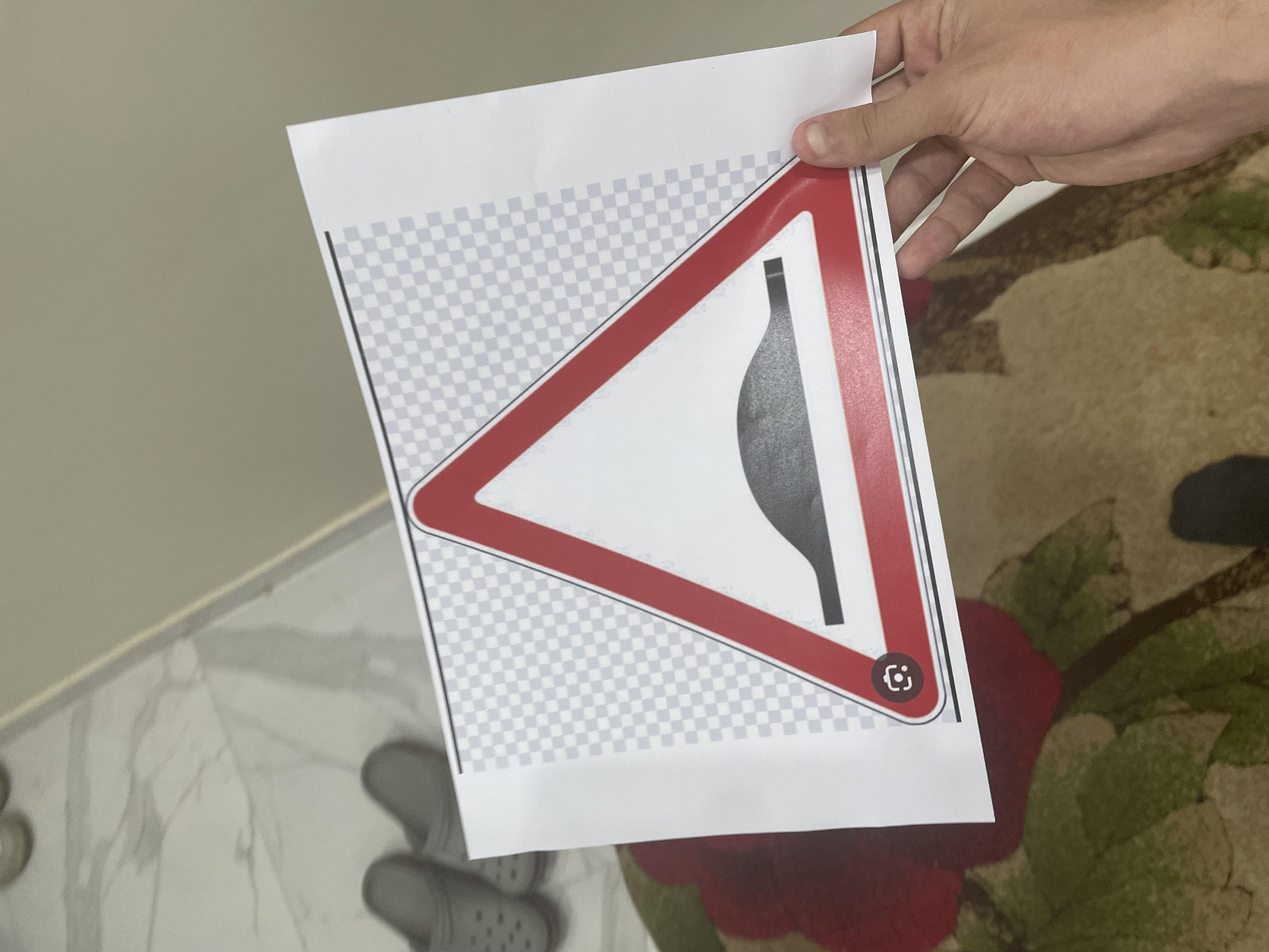Hump: (281, 300, 1092, 715)
